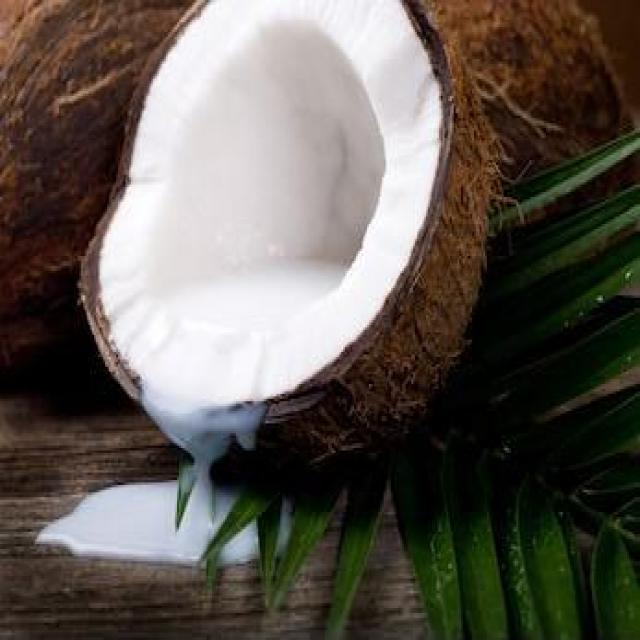coconut: (95, 0, 491, 454)
